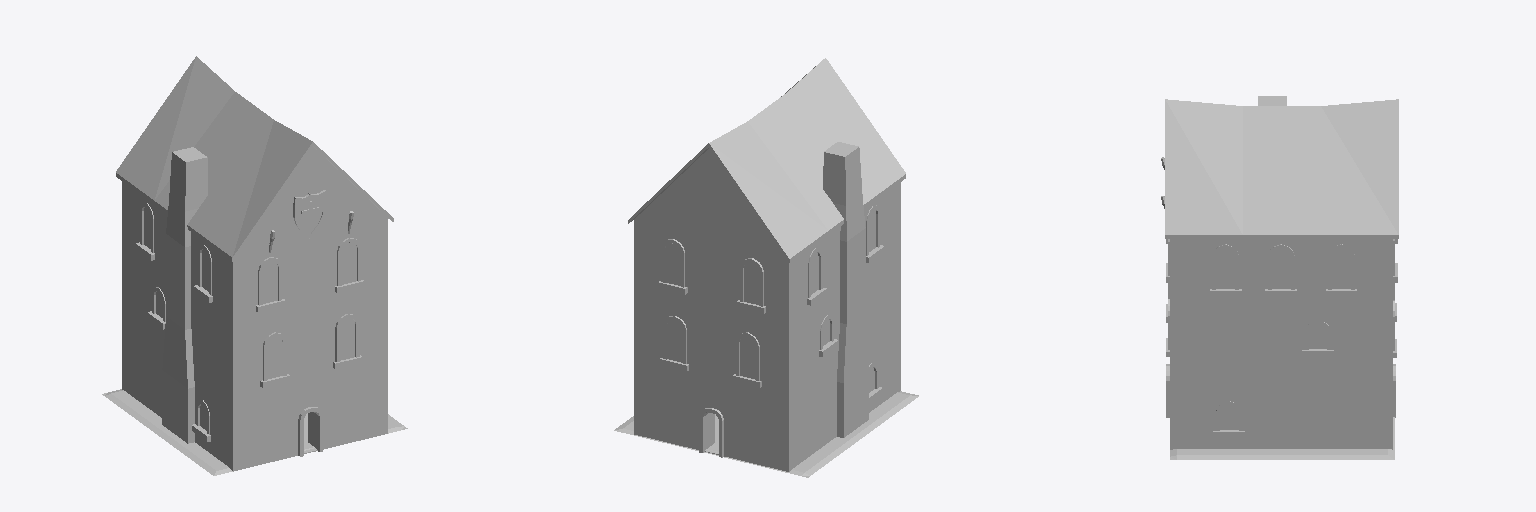
File: KeepLoPoly.obj
3 views of the same model, side by side, from view 1: azimuth 30°, elevation 25°; view 2: azimuth 150°, elevation 25°; view 3: azimuth 270°, elevation 25° (orthographic).
Visible parts, largest first — view 1: limestone, roof, floor, mudgrass; view 2: limestone, roof, floor, mudgrass; view 3: limestone, roof, floor, mudgrass.
Part boxes in pixels (x1,y1,x2,y2): limestone: (122, 147, 387, 471); roof: (116, 56, 393, 261); floor: (144, 207, 356, 430); mudgrass: (102, 389, 407, 475); limestone: (634, 142, 900, 471); roof: (628, 58, 905, 262); floor: (665, 210, 875, 392); mudgrass: (614, 391, 918, 477); limestone: (1166, 96, 1397, 449); roof: (1165, 99, 1398, 238); floor: (1216, 249, 1350, 429); mudgrass: (1170, 417, 1394, 459).
Bounding box in the file's own units: 76 × 117 × 80.54.